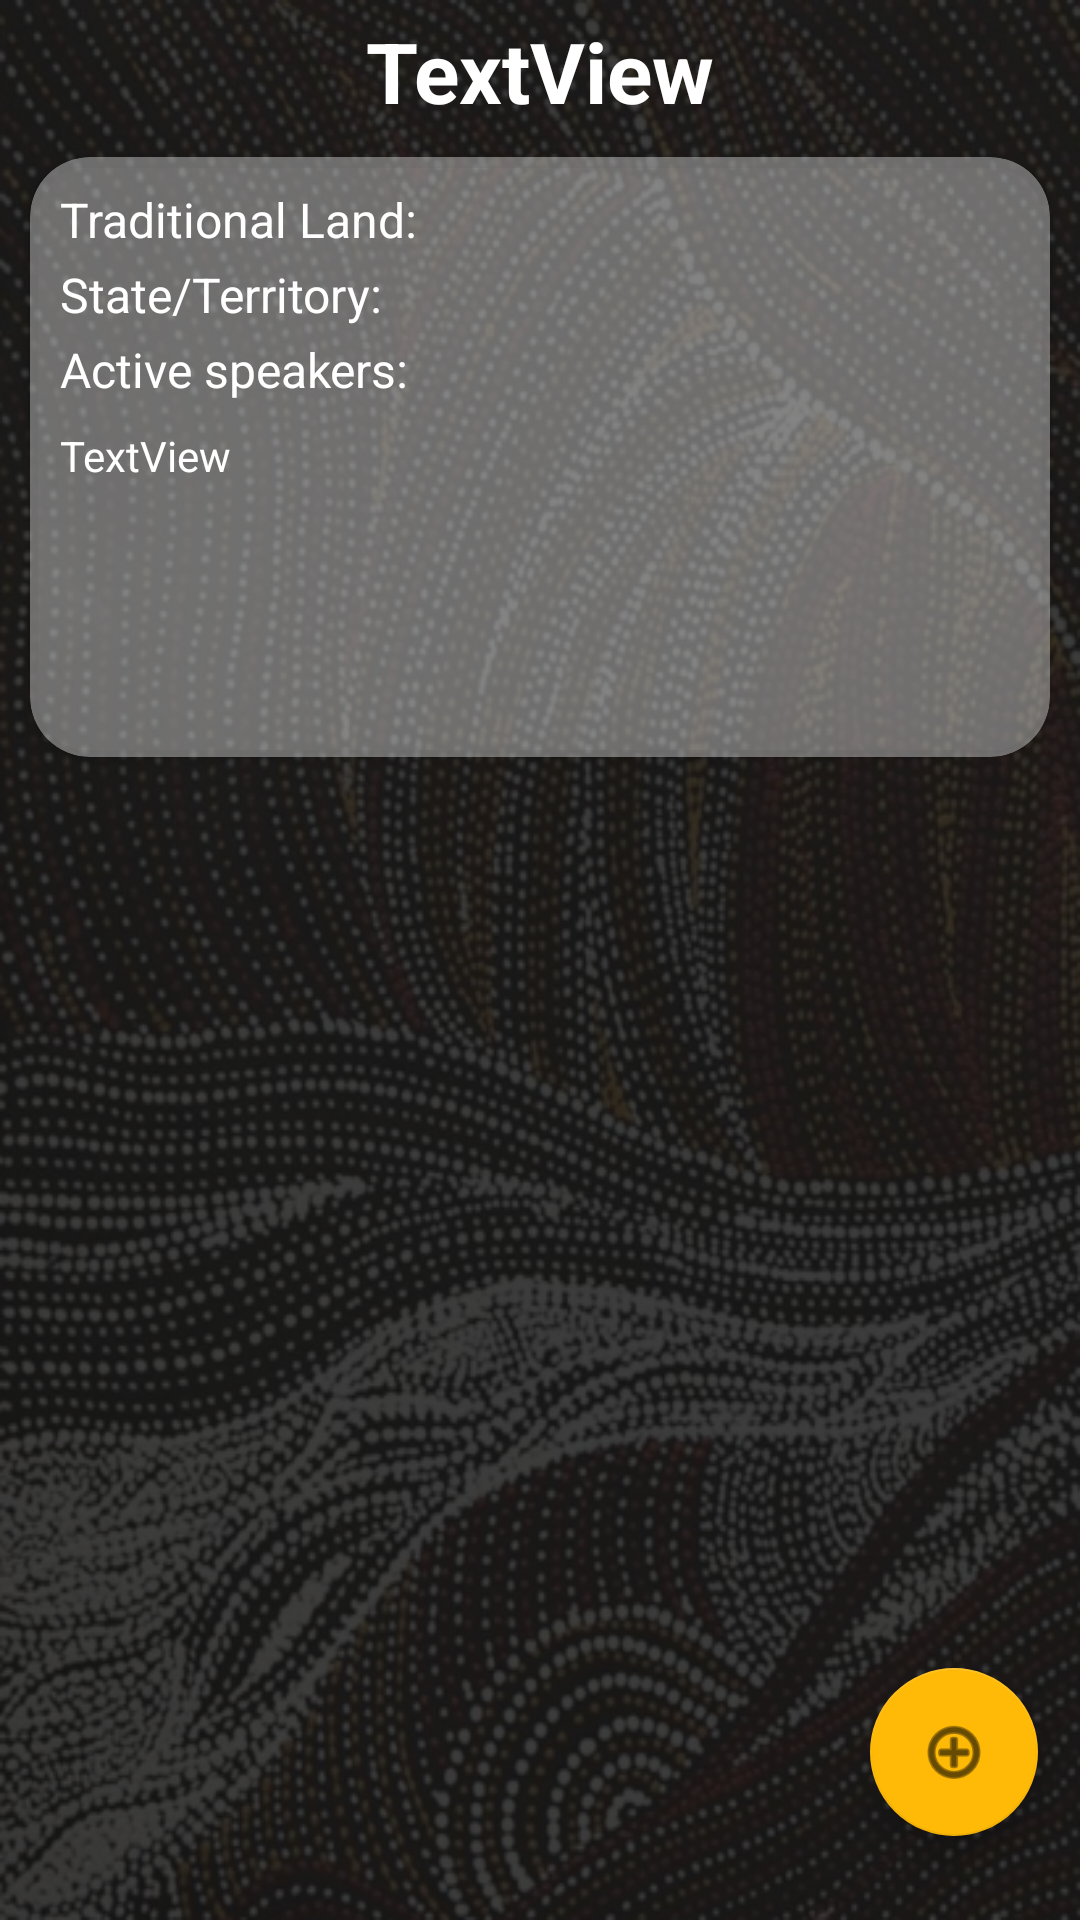

Icon bounding boxes for this 1080px×1920px phone screenshot, format (x1, y1, x2, y2):
add: (870, 1668, 1038, 1836)
